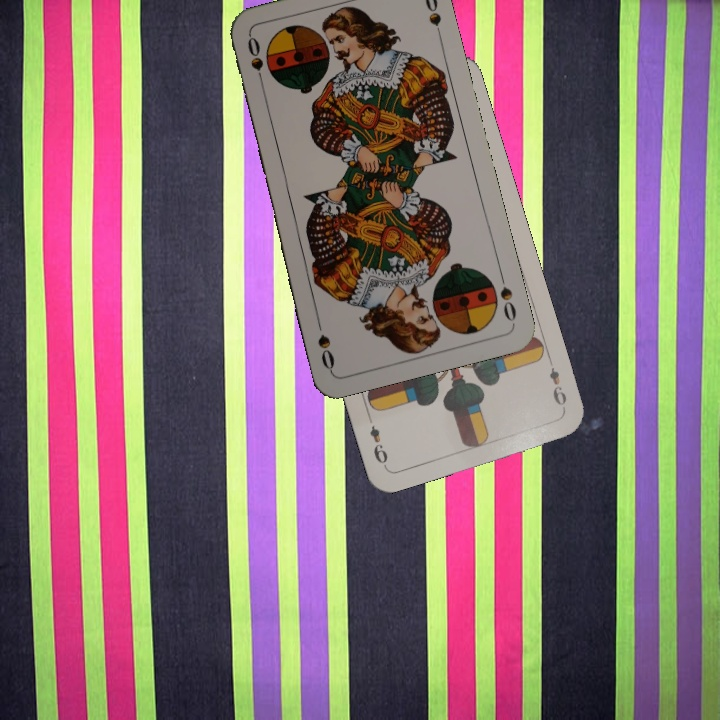E9: (544, 354, 569, 413)
SO: (243, 32, 267, 91), (495, 268, 519, 325)
